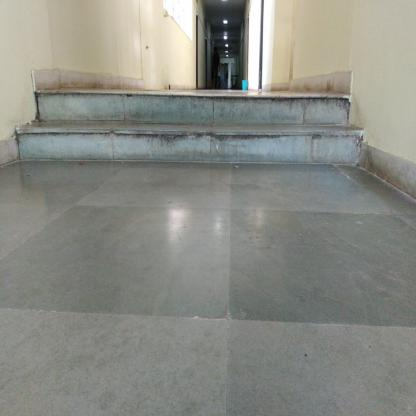stairs: (37, 88, 350, 169)
